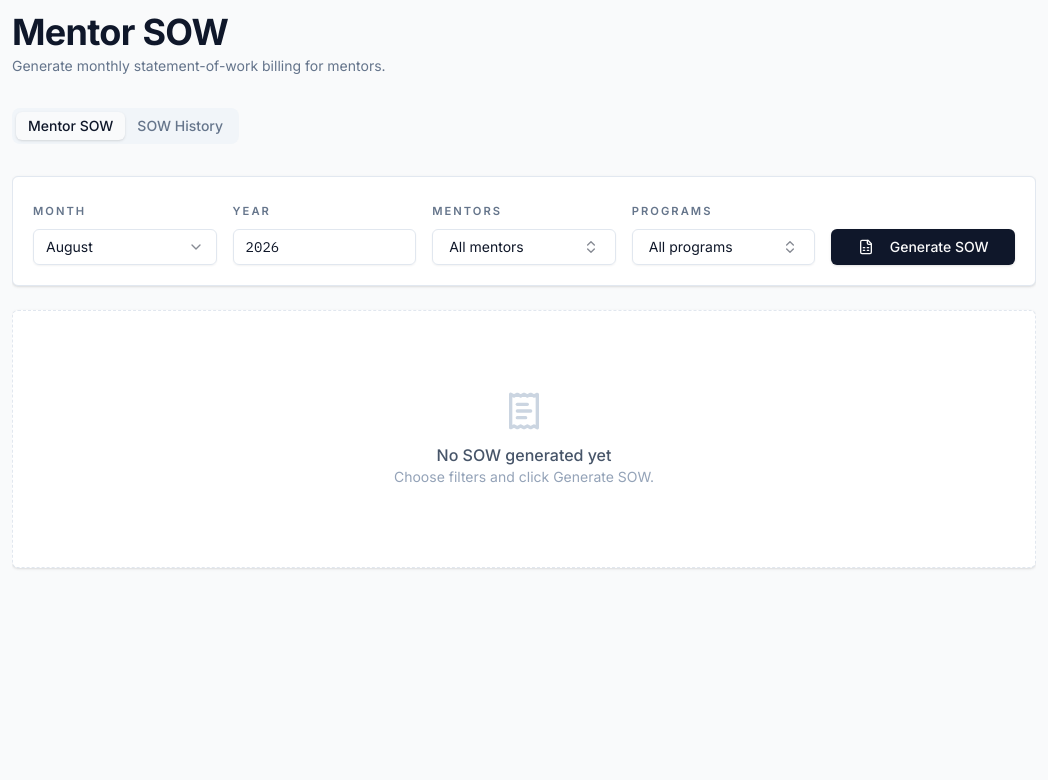
Scenario: SOW — Mentor SOW tab › generating a SOW shows the preview table
This screenshot has width=1048, height=780.
Step 1. Click the button with test id "sow-generate-btn" → (923, 247), box left=831, top=229, right=1015, bottom=265
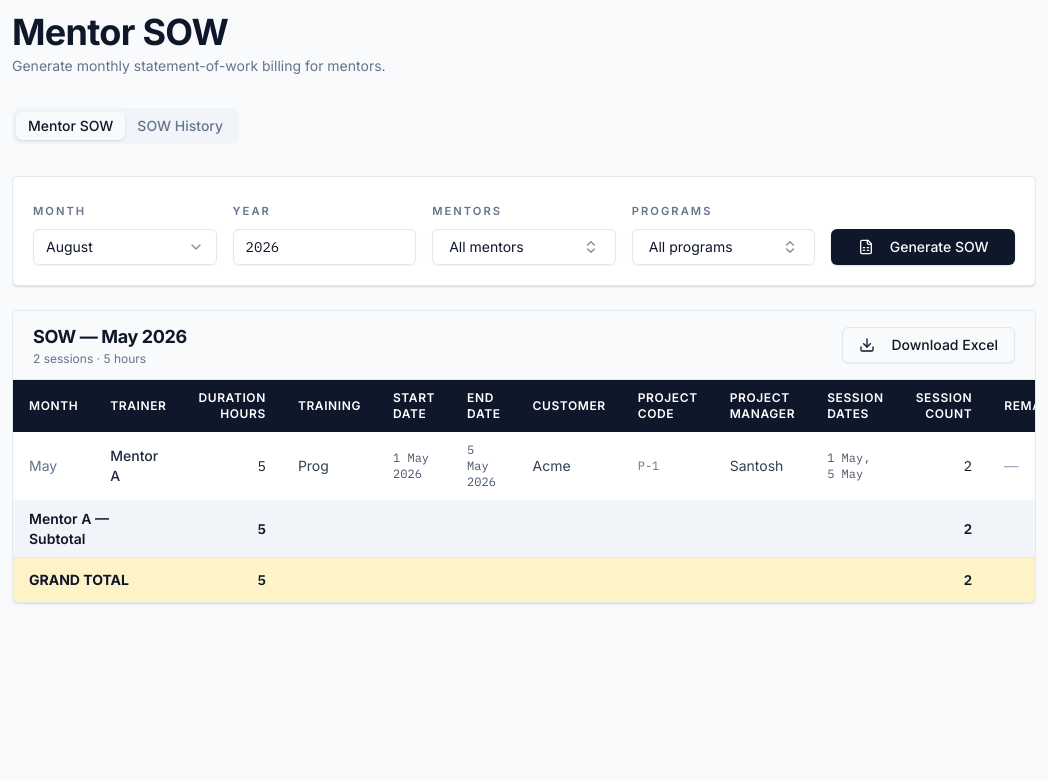
Check: the element with test id "sow-preview" is shown, box left=12, top=310, right=1036, bottom=603
Check: the row with test id "sow-row" is shown, box left=13, top=432, right=1035, bottom=500
Check: the row with test id "sow-subtotal" is shown, box left=13, top=500, right=1035, bottom=558
